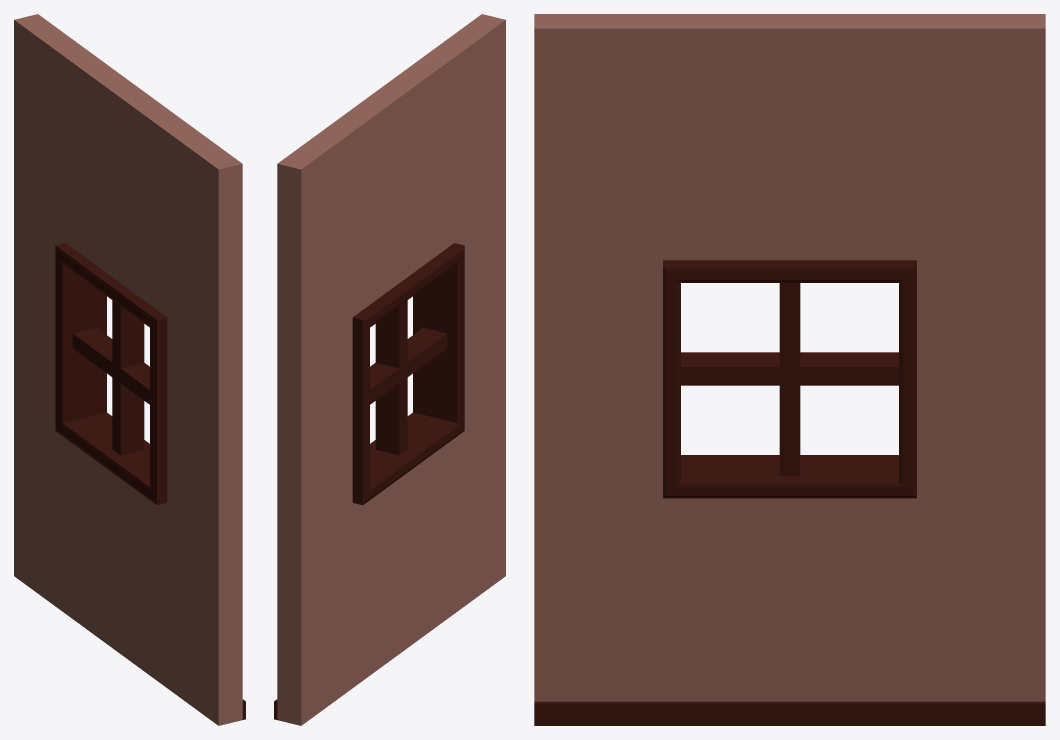
The model's file is T_Fenetre_02.fbx.
3 renders of one model, left to right at view 1: azimuth 30°, elevation 25°; view 2: azimuth 150°, elevation 25°; view 3: azimuth 270°, elevation 25°, orthographic. The views are drawn at different scales.
Visible parts, largest first — view 1: T_Fenetre_02; view 2: T_Fenetre_02; view 3: T_Fenetre_02.
Part boxes in pixels (x1,y1,x2,y2): T_Fenetre_02: [14, 14, 245, 725]; T_Fenetre_02: [274, 14, 505, 725]; T_Fenetre_02: [534, 14, 1045, 725].
Size of the model in its own units: 26.02 by 300 by 200.
